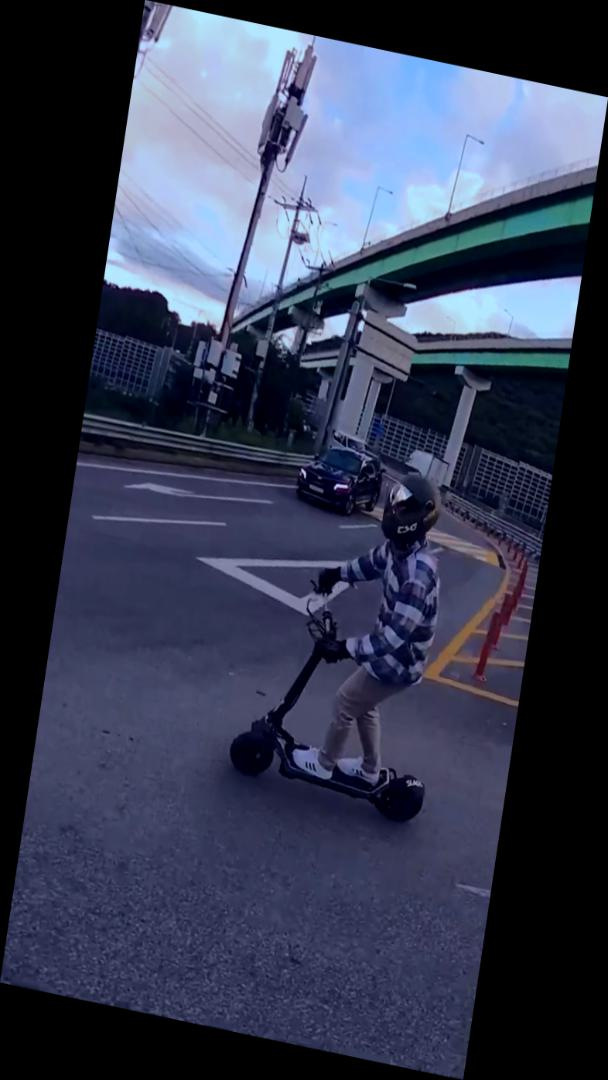helmet: (222, 439, 478, 832)
